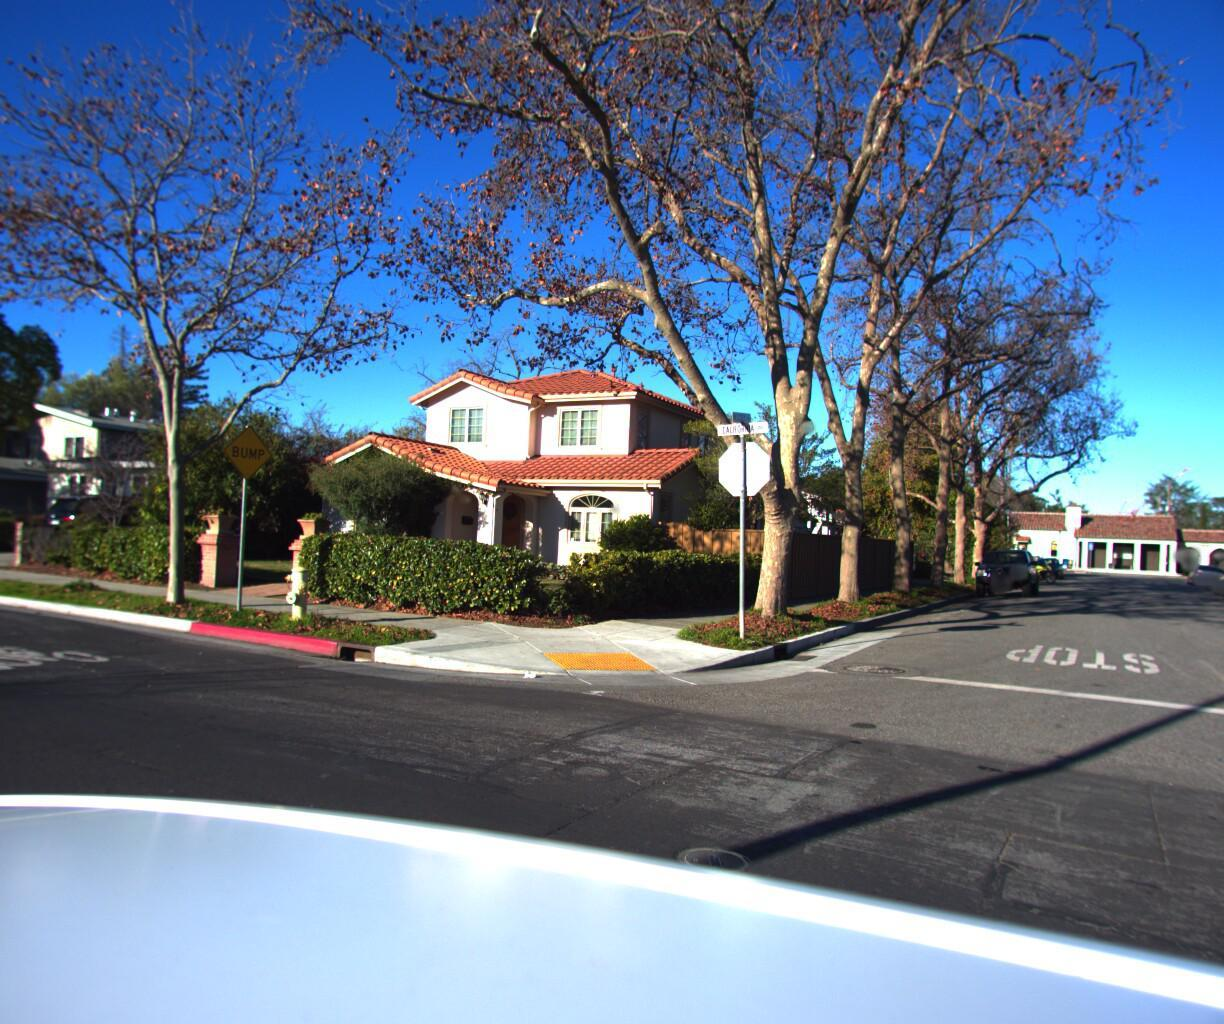car: (21, 494, 218, 568), (968, 548, 1040, 606), (1181, 564, 1222, 591), (1027, 556, 1062, 584), (1207, 565, 1224, 607)
motorcycle: (1012, 565, 1055, 588)
